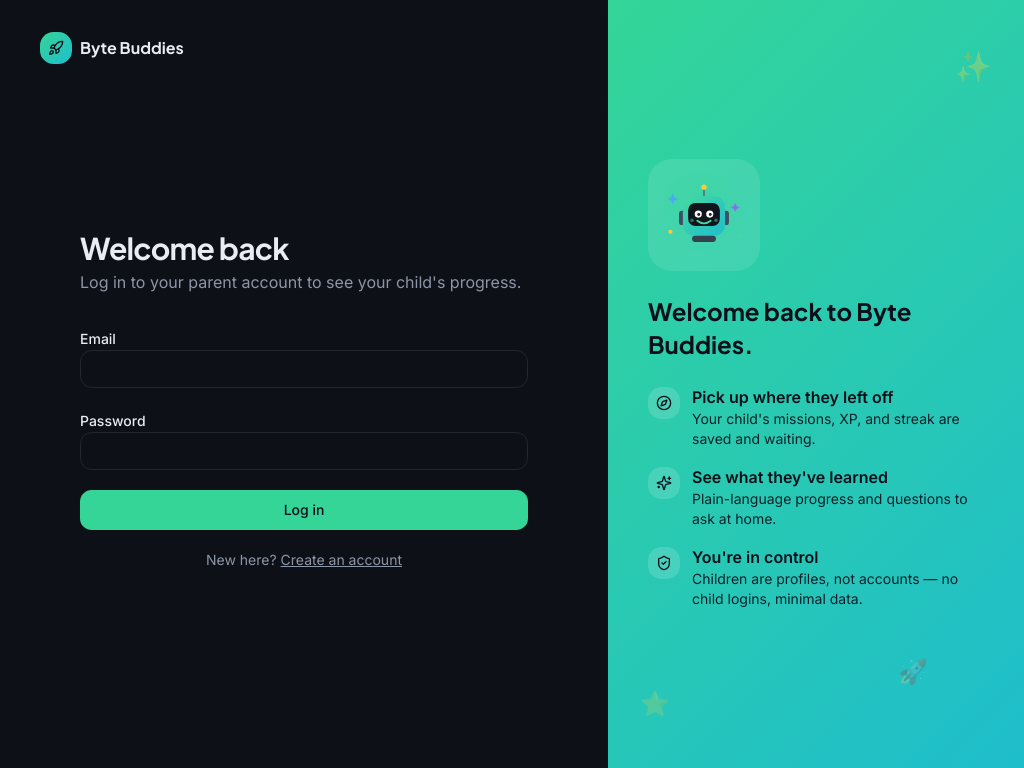
Test: LoginPage › surfaces an auth error from the server as a friendly message
Type "parent@example.com" into the field labelled "Email".
click(304, 369); type("parent@example.com")  # box left=80, top=350, right=528, bottom=388
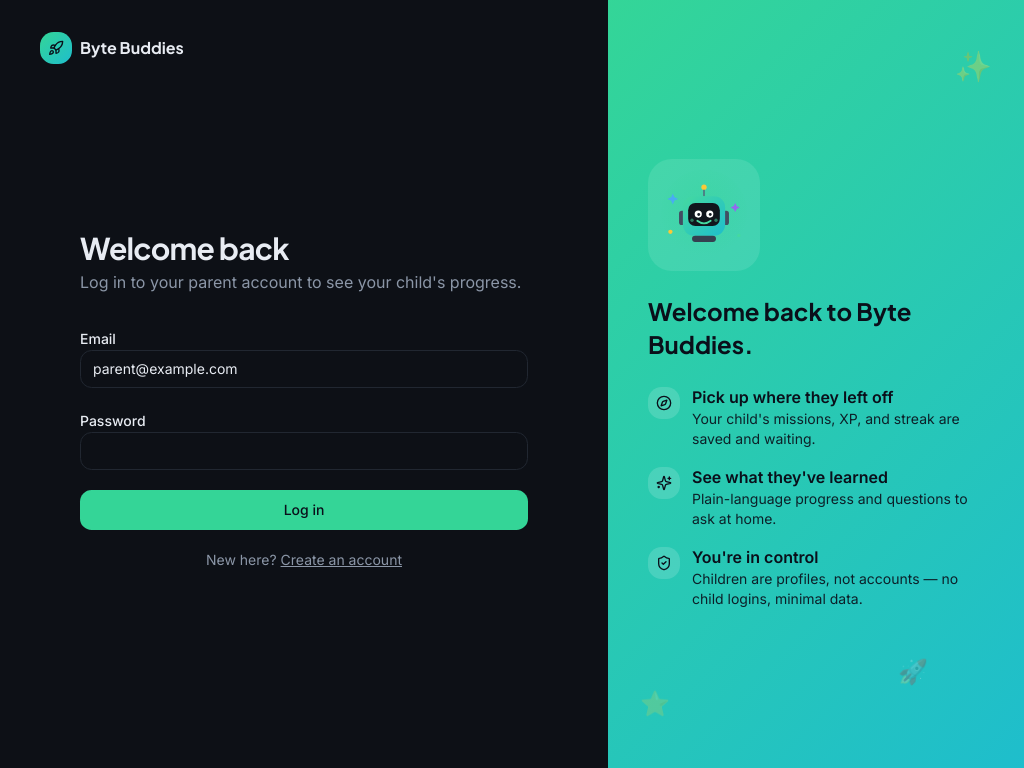
Type "wrong-password" into the password field labelled "Password".
click(304, 451); type("wrong-password")  # box left=80, top=432, right=528, bottom=470
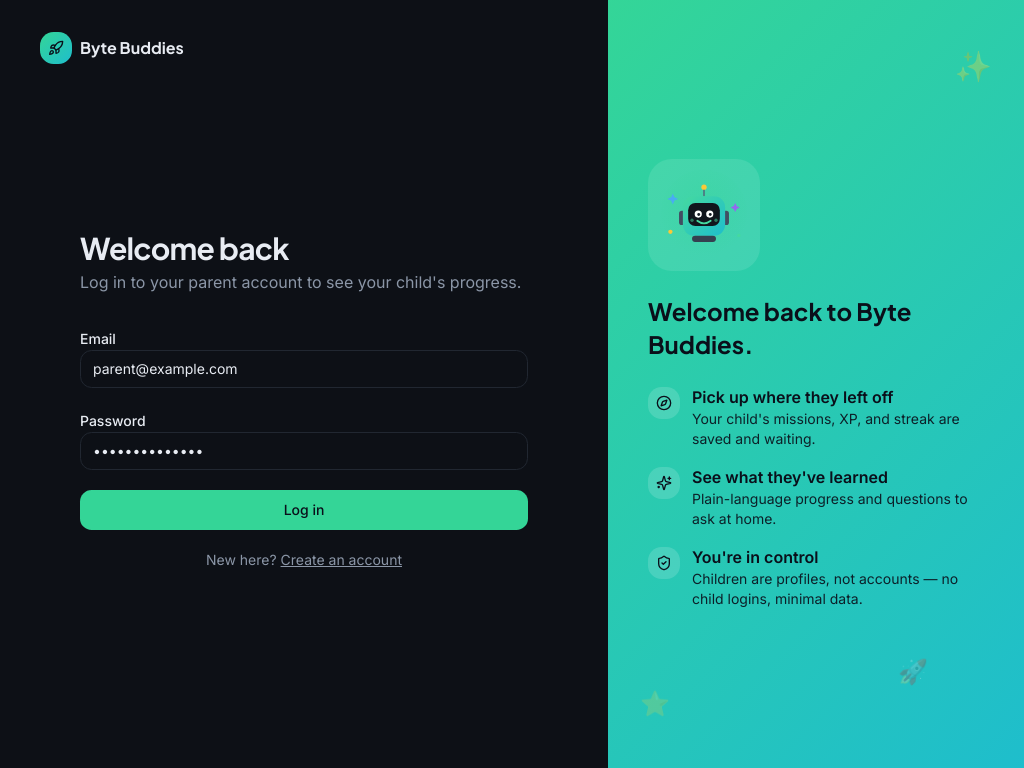
Click the button "Log in".
click(304, 510)  # box left=80, top=490, right=528, bottom=530
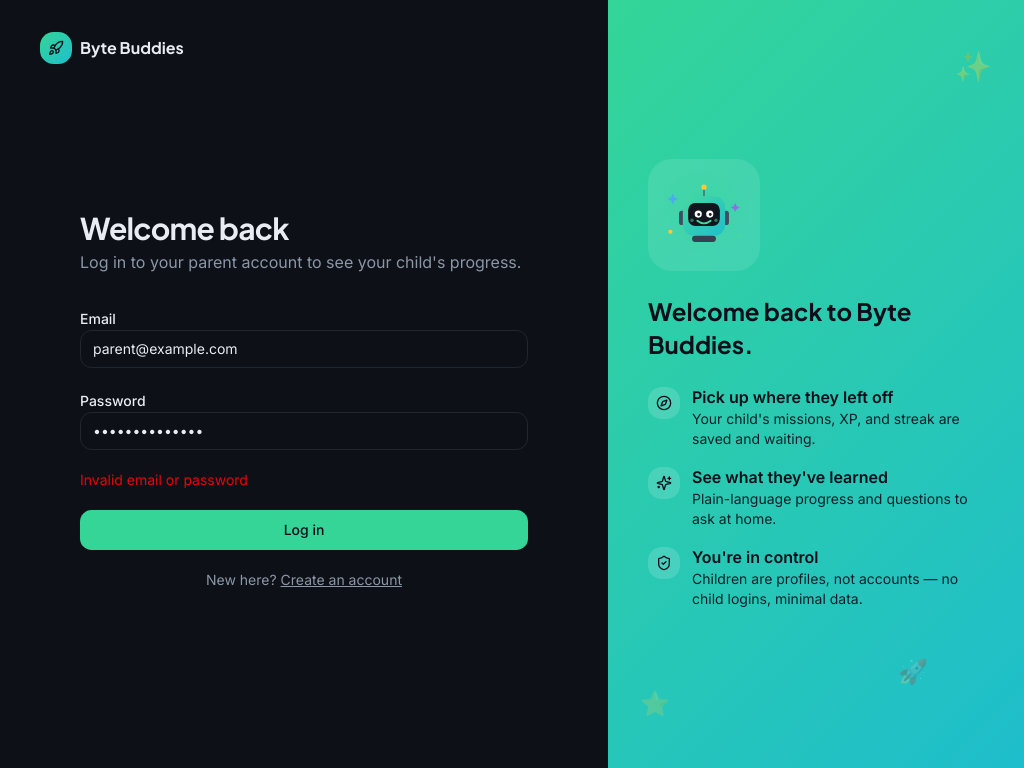
Now the text "Invalid email or password" is shown, box left=80, top=471, right=248, bottom=488
